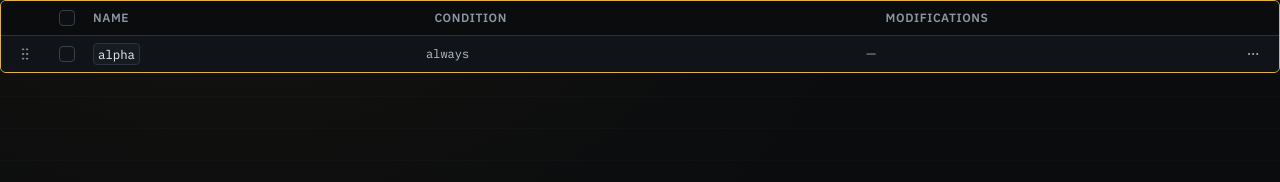
Test: RulesTreeTable › row-actions kebab + right-click menu + details drawer › add-items are absent from both menus while pending
Click the button named "row actions" at (1253, 54), box [1239,40,1267,68]
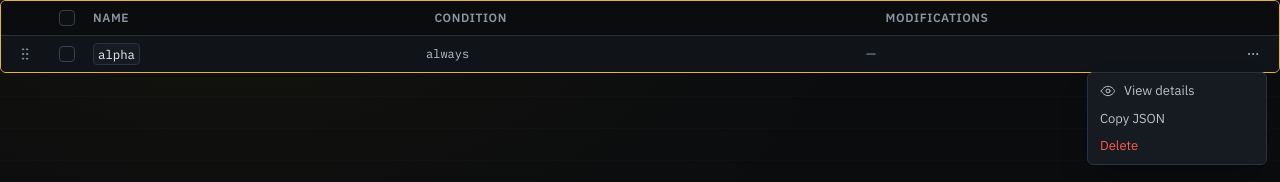
Now the menu items read "View details", "Copy JSON", "Delete", in this order, box [1100,82,1195,99]; [1100,110,1165,126]; [1100,137,1138,154]
